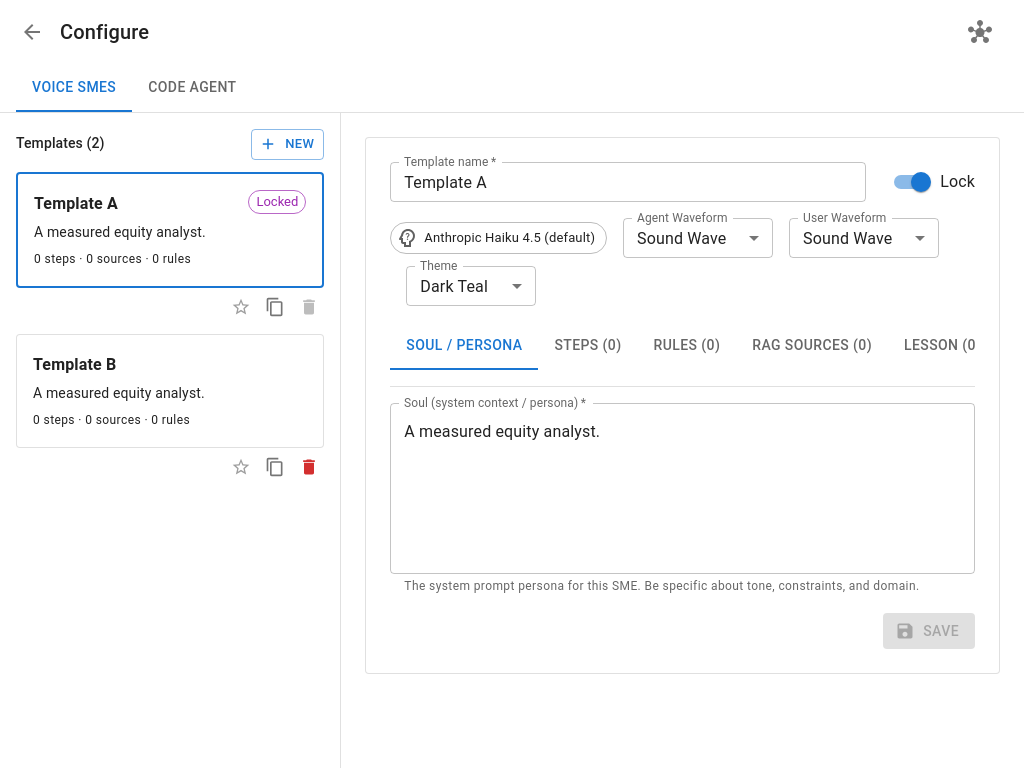
Scenario: ConfigPage › selecting a different template card loads it into the editor
Step 1. Click the heading "Template B" → (75, 365), box 33,351 -> 116,379
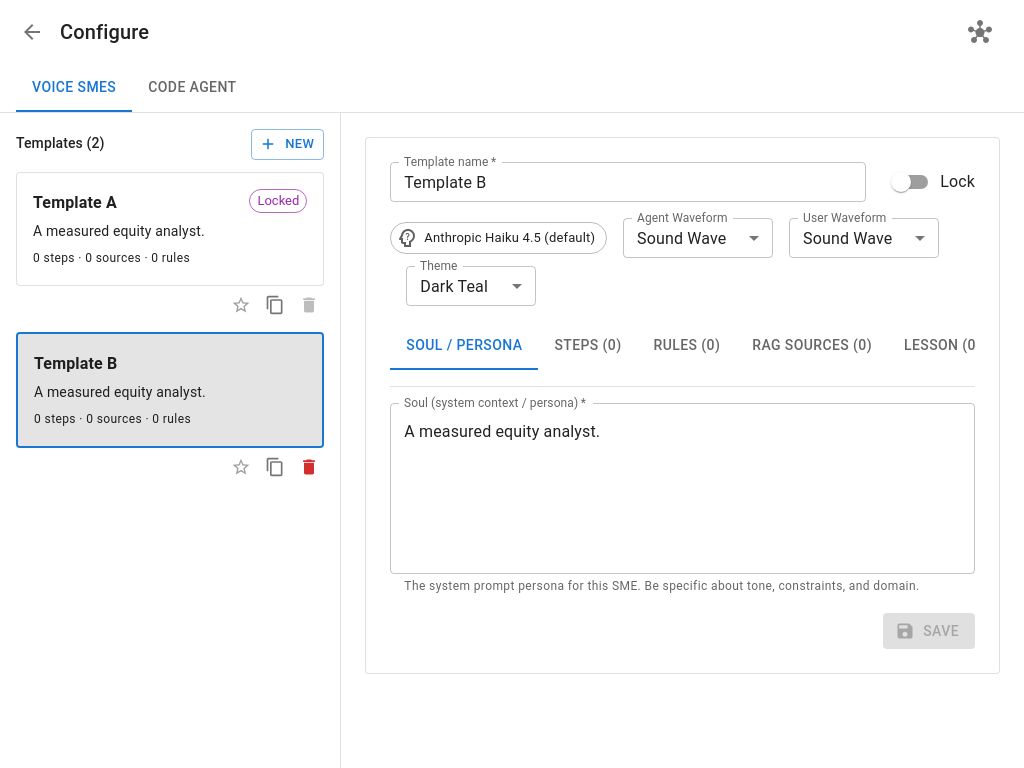
Check: the field labelled "Template name *" holds "Template B", box 390,162 -> 866,202
